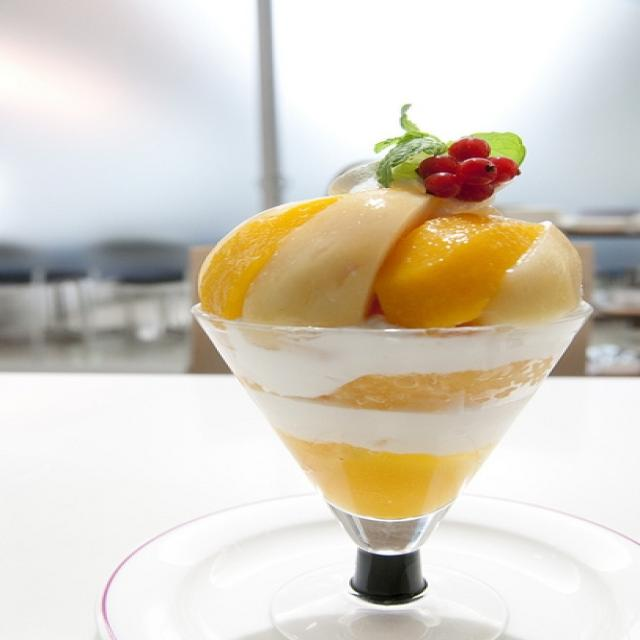蛋糕甜品: (171, 103, 593, 600)
